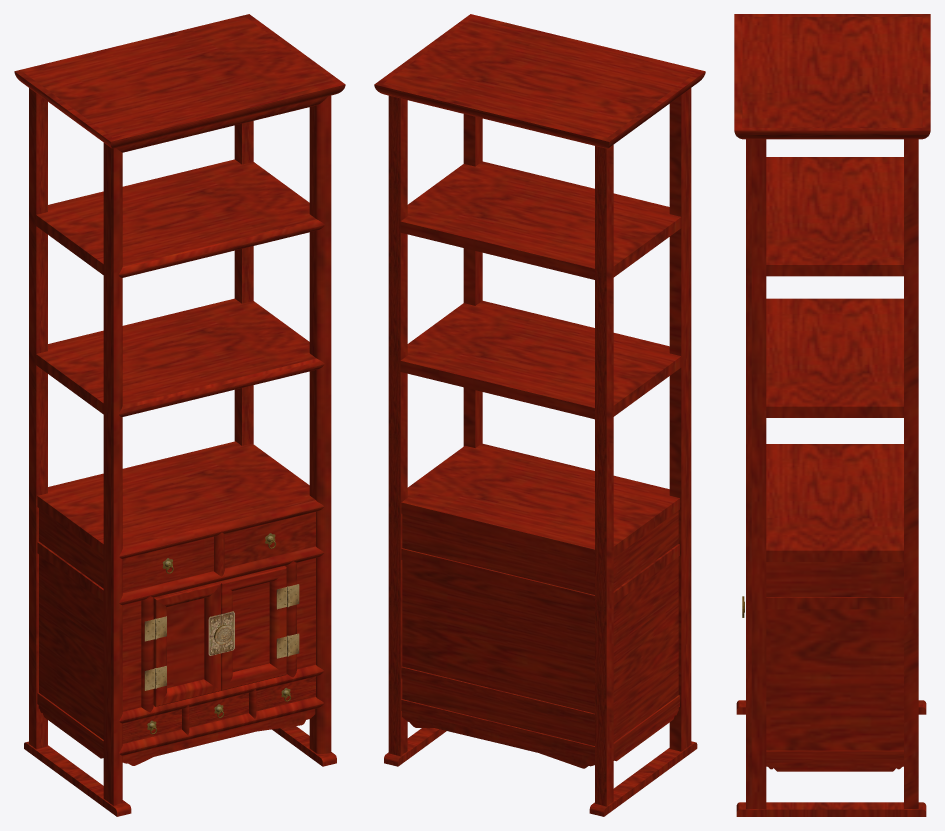
Rendered from Chiffonier_06.FBX.
3 views of the same model, side by side, from view 1: azimuth 30°, elevation 25°; view 2: azimuth 150°, elevation 25°; view 3: azimuth 270°, elevation 25° (orthographic).
Bounding box in the file's own units: 48.51 × 134 × 34.46.
